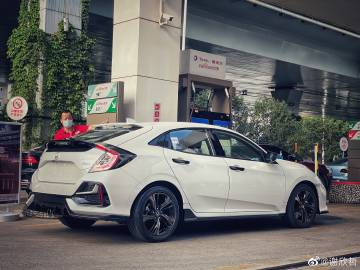other: (31, 122, 328, 233)
